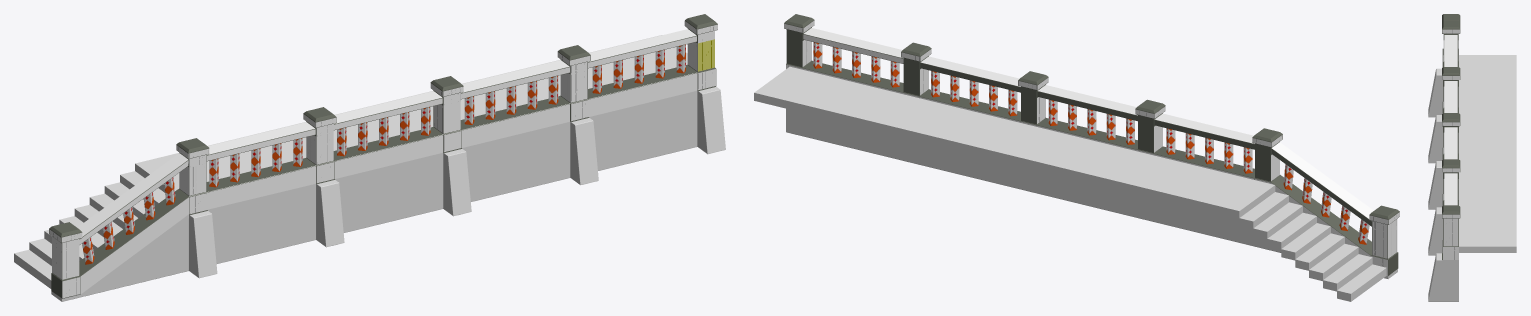
The model's file is EscadariaMorroDaC.fbx.
The picture shows the model from 3 angles, left to right: view 1: azimuth 30°, elevation 25°; view 2: azimuth 150°, elevation 25°; view 3: azimuth 270°, elevation 25°; orthographic projection. The views are drawn at different scales.
Parts seen in each view (by area): view 1: Muretas, Escada.001, Pilastras; view 2: Muretas, Escada.001, Pilastras; view 3: Escada.001, Muretas.
Part boxes in pixels (<box>): Muretas: <box>49,14,725,301</box>; Escada.001: <box>14,35,687,288</box>; Pilastras: <box>82,44,685,264</box>; Muretas: <box>784,14,1399,278</box>; Escada.001: <box>754,66,1386,301</box>; Pilastras: <box>813,42,1369,244</box>; Escada.001: <box>1459,55,1516,252</box>; Muretas: <box>1428,14,1460,301</box>.
Size of the model in its own units: 1949 by 344 by 306.
